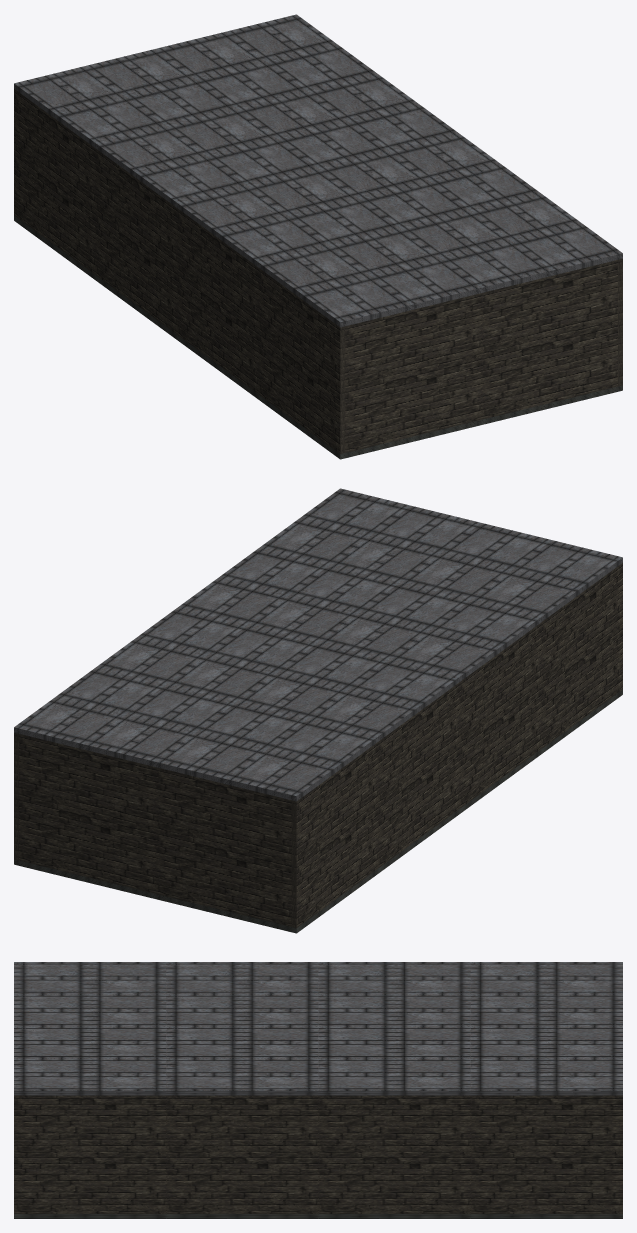
The model's file is dungeon1.fbx.
The picture shows the model from 3 angles, top to bottom: view 1: azimuth 30°, elevation 25°; view 2: azimuth 150°, elevation 25°; view 3: azimuth 270°, elevation 25°; orthographic projection. The views are drawn at different scales.
Visible parts, largest first — view 1: Roof, Opening1, Wall4, Floor; view 2: Roof, Opening1, Wall2, Floor; view 3: Roof, Opening2, Floor.
Boxes of the visible parts, box(x1,y1,x2,y2) form: Roof: box(14, 14, 622, 327); Opening1: box(14, 89, 345, 454); Wall4: box(345, 260, 617, 452); Floor: box(14, 215, 622, 459); Roof: box(14, 488, 622, 801); Opening1: box(291, 563, 622, 928); Wall2: box(19, 734, 291, 926); Floor: box(14, 689, 622, 933); Roof: box(14, 962, 622, 1095); Opening2: box(14, 1095, 622, 1213); Floor: box(14, 1214, 622, 1218).
Size of what is drawn, in the model's own units: 2800 by 1300 by 5600.
